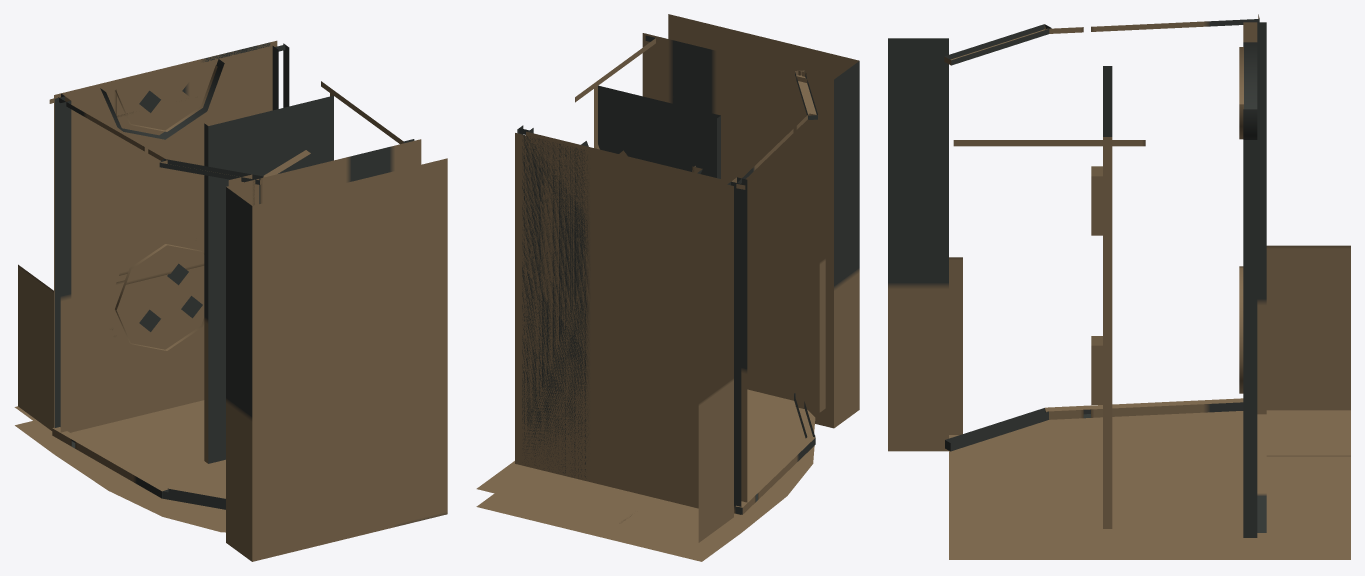
Rendered from section-5.obj.
3 views of the same model, side by side, from view 1: azimuth 30°, elevation 25°; view 2: azimuth 150°, elevation 25°; view 3: azimuth 270°, elevation 25° (orthographic). The views are drawn at different scales.
Size of the model in its own units: 0.6827 by 0.975 by 0.99.
